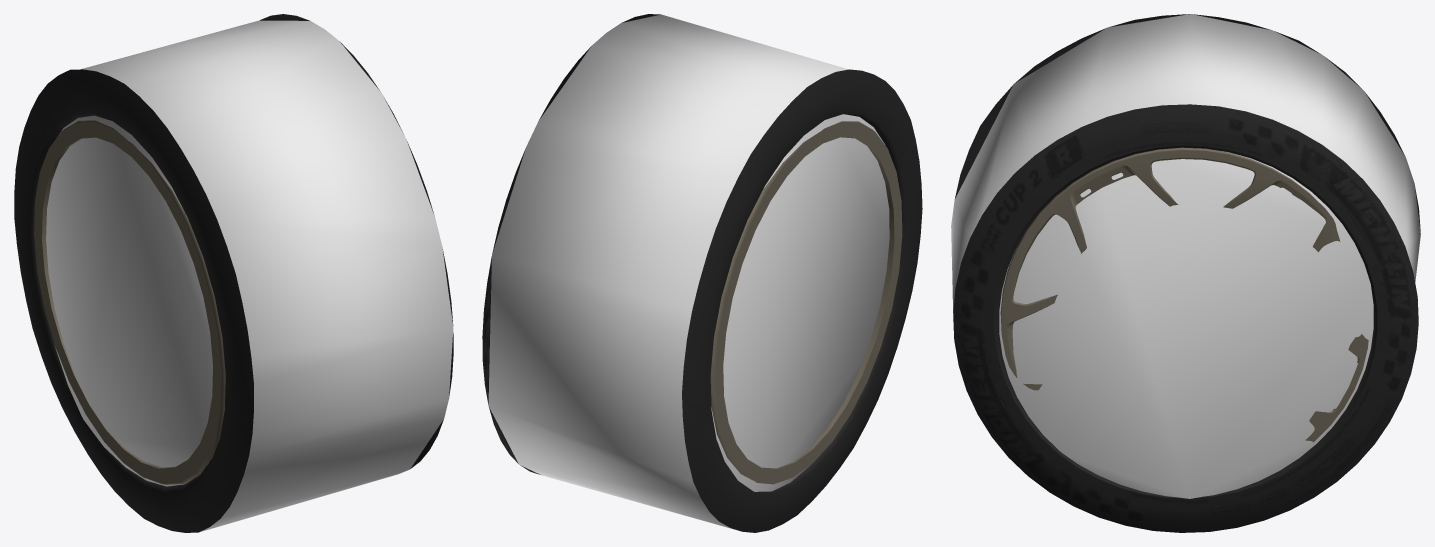
3 views of the same model, side by side, from view 1: azimuth 30°, elevation 25°; view 2: azimuth 150°, elevation 25°; view 3: azimuth 270°, elevation 25° (orthographic). The views are drawn at different scales.
Parts seen in each view (by area): view 1: wheel_stampede_rear_01_col, wheel_stampede_rear_01; view 2: wheel_stampede_rear_01_col, wheel_stampede_rear_01; view 3: wheel_stampede_rear_01_col, wheel_stampede_rear_01.
Part boxes in pixels (left/top/right/bottom): wheel_stampede_rear_01_col: left=46, top=20, right=453, bottom=532; wheel_stampede_rear_01: left=14, top=14, right=453, bottom=532; wheel_stampede_rear_01_col: left=488, top=14, right=889, bottom=530; wheel_stampede_rear_01: left=482, top=14, right=922, bottom=532; wheel_stampede_rear_01_col: left=951, top=14, right=1420, bottom=498; wheel_stampede_rear_01: left=953, top=14, right=1420, bottom=532.
Size of the model in its own units: 0.3777 by 0.6994 by 0.6913.
1 material, 1 textured.
